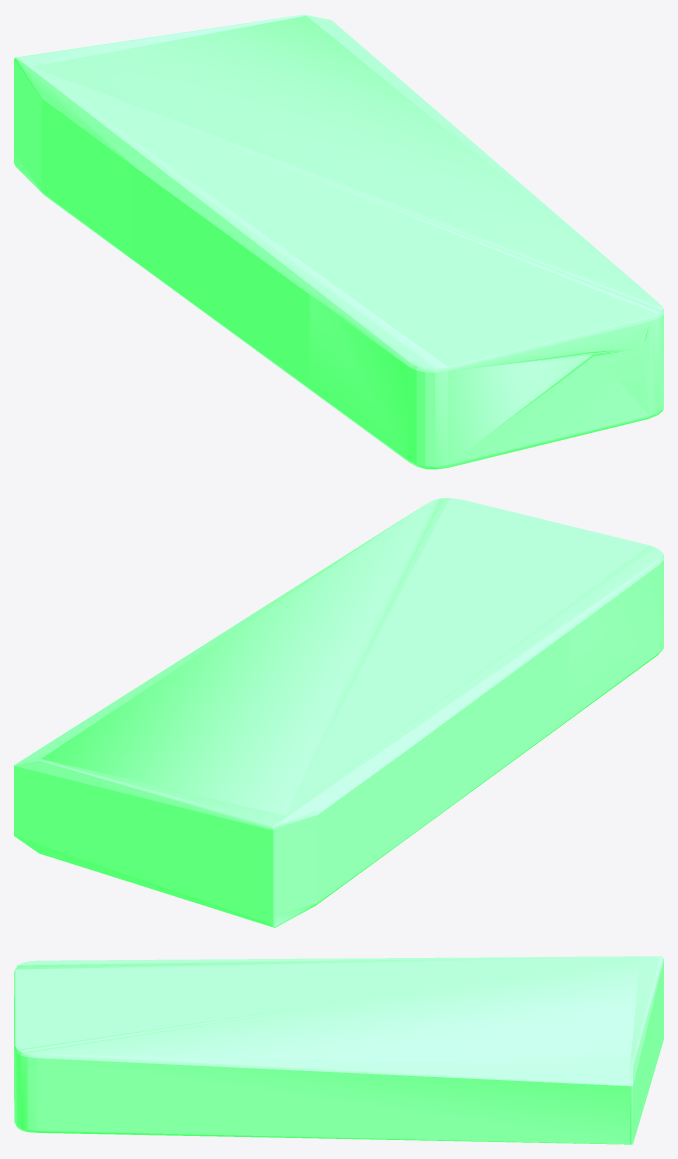
The model's file is ghost_gpu_final-alt.glb.
The picture shows the model from 3 angles, top to bottom: view 1: azimuth 30°, elevation 25°; view 2: azimuth 150°, elevation 25°; view 3: azimuth 270°, elevation 25°; orthographic projection. The views are drawn at different scales.
Parts seen in each view (by area): view 1: GHOST_GPU; view 2: GHOST_GPU; view 3: GHOST_GPU.
Boxes of the visible parts, box(x1,y1,x2,y2) form: GHOST_GPU: box(14, 14, 663, 469); GHOST_GPU: box(14, 498, 663, 927); GHOST_GPU: box(14, 956, 663, 1144).
Size of the model in its own units: 0.1209 by 0.0413 by 0.2846.
